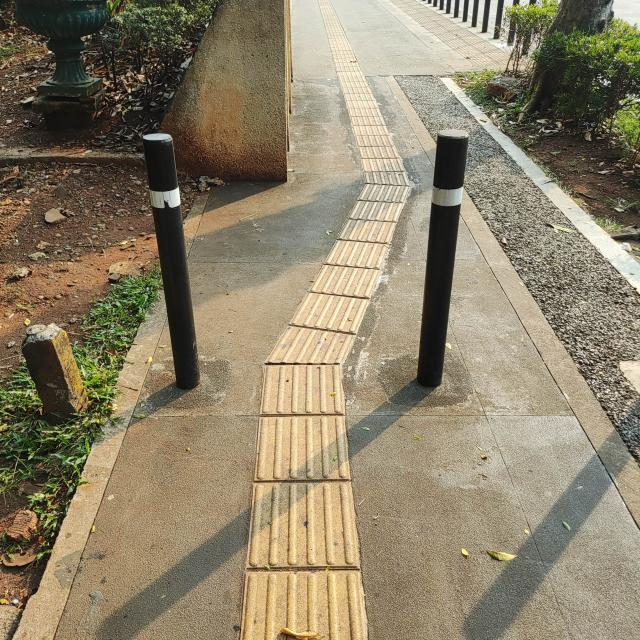lurus: (259, 361, 354, 640), (330, 30, 422, 208)
